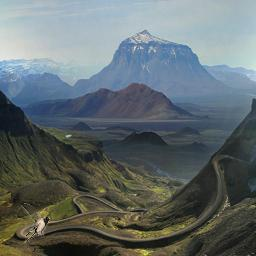Swallow: (21, 203, 50, 243)
